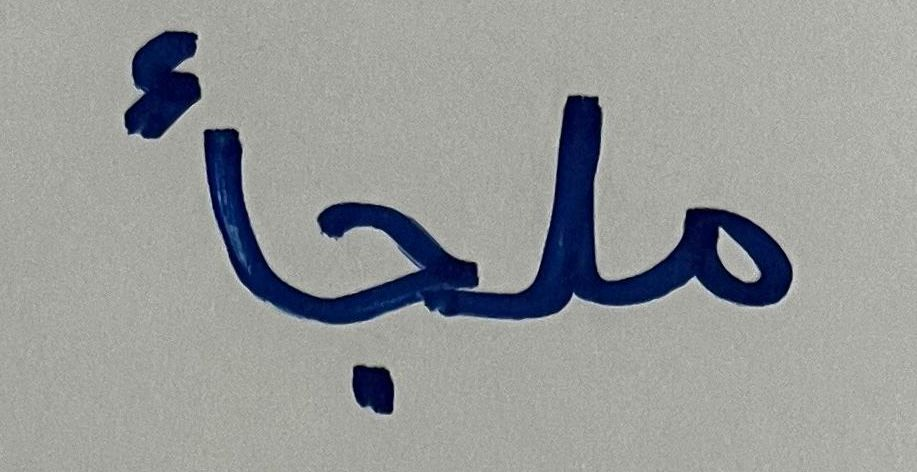hamza: (114, 6, 297, 364)
jeem: (304, 180, 507, 429)
lam: (517, 61, 634, 372)
meem: (643, 171, 828, 340)
